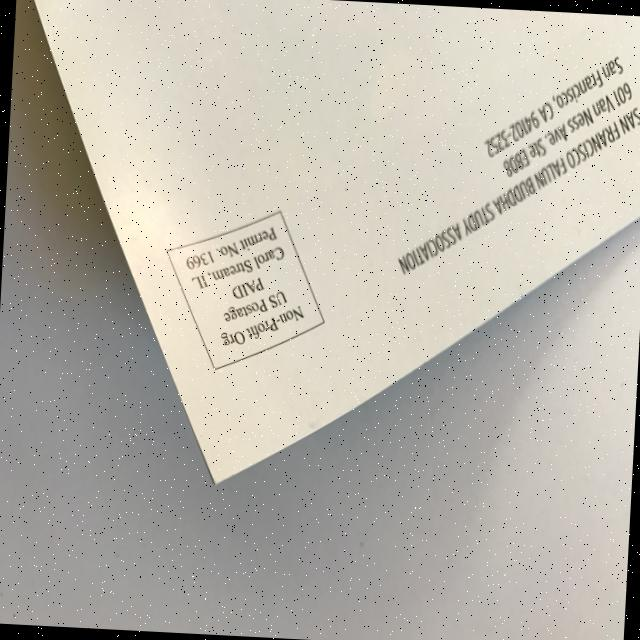paper: (2, 0, 640, 507)
